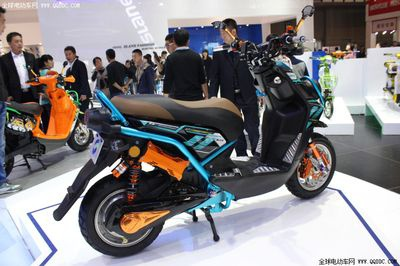non-vehicle: (63, 11, 338, 254), (9, 66, 90, 164)
